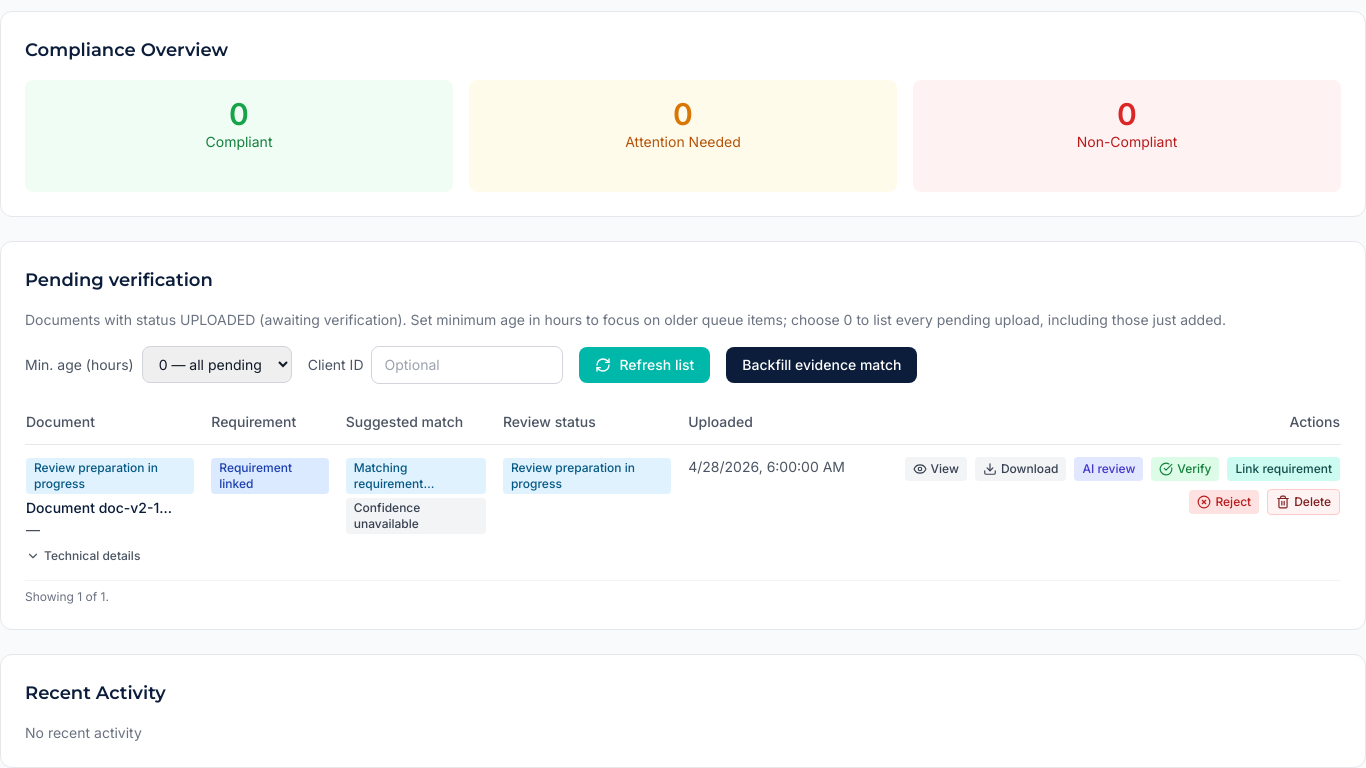
Test: AdminDashboard pending verification queue › requires override reason before AI field override action
Later steps or results of the test are not shown.
(page scrolled)
Click the button with test id "ai-review-doc-doc-v2-1": [1109, 468] box [1074,456,1143,480]
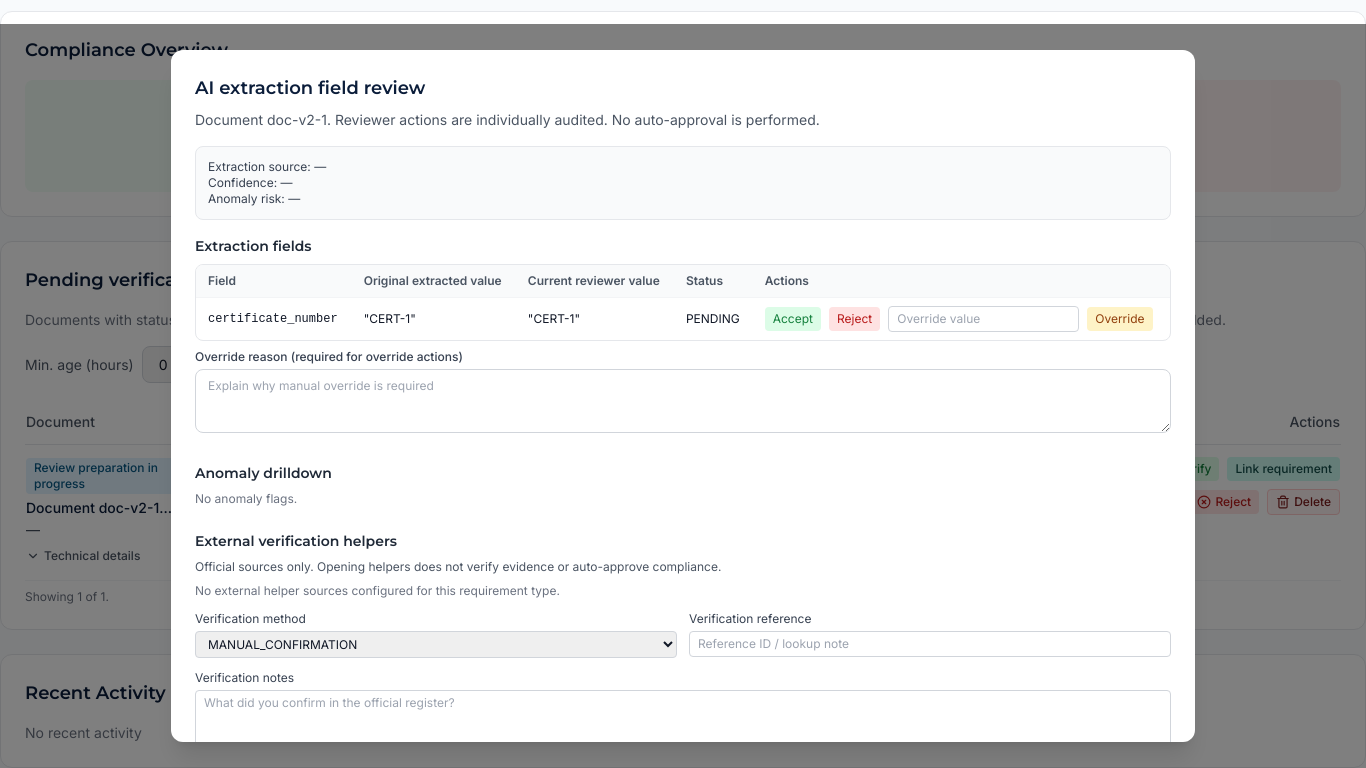
Now the field with placeholder "Override value" is shown, box [888,306,1079,332]
